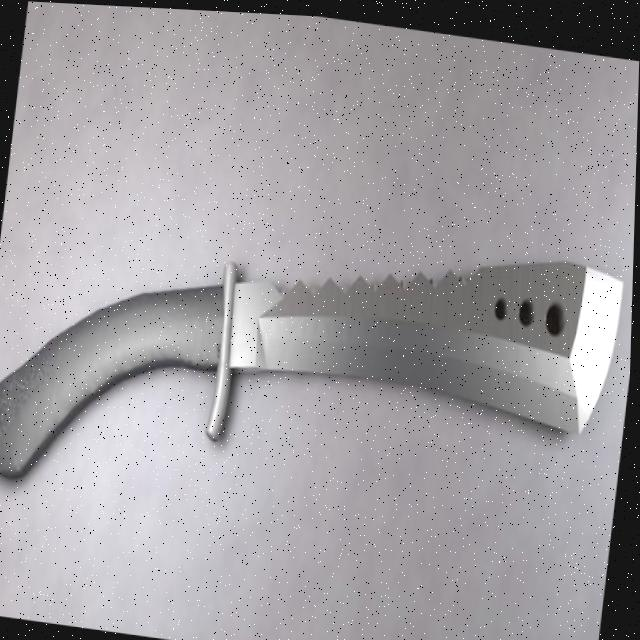knife: (0, 182, 627, 556)
